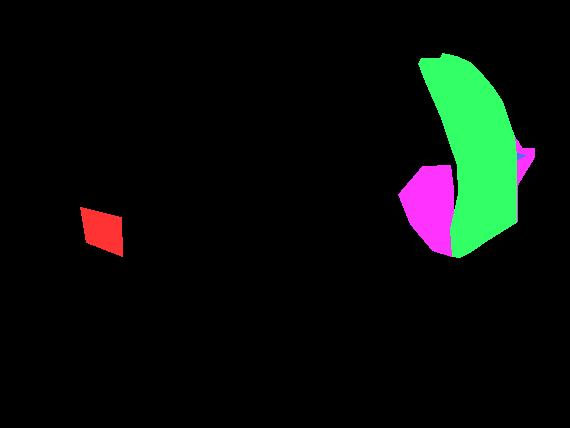Broken part: (418, 53, 516, 257)
Dent: (462, 129, 534, 252), (398, 165, 453, 256)
Missing part: (80, 207, 122, 256)
Scratch: (469, 218, 508, 245), (471, 199, 515, 220), (476, 186, 505, 209), (494, 153, 525, 163), (477, 174, 496, 189), (489, 163, 508, 174)
